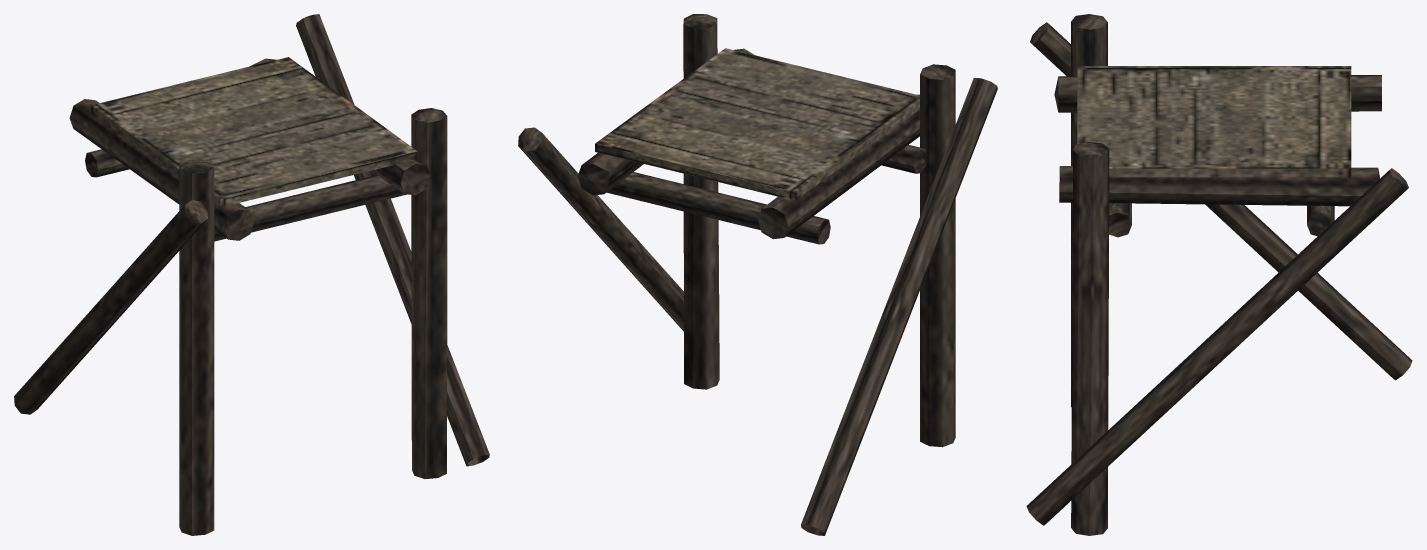
Rendered from Pier01.obj.
The picture shows the model from 3 angles, left to right: view 1: azimuth 30°, elevation 25°; view 2: azimuth 150°, elevation 25°; view 3: azimuth 270°, elevation 25°; orthographic projection. The views are drawn at different scales.
Parts seen in each view (by area): view 1: Pier01; view 2: Pier01; view 3: Pier01.
Boxes of the visible parts, bbox=[...] form: Pier01: bbox=[14, 14, 489, 535]; Pier01: bbox=[518, 14, 997, 535]; Pier01: bbox=[1026, 14, 1412, 535].
Size of the model in its own units: 5.43 by 6.27 by 5.64.
